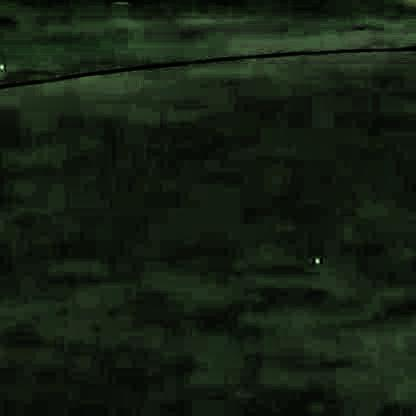golfball: (309, 256, 319, 263)
